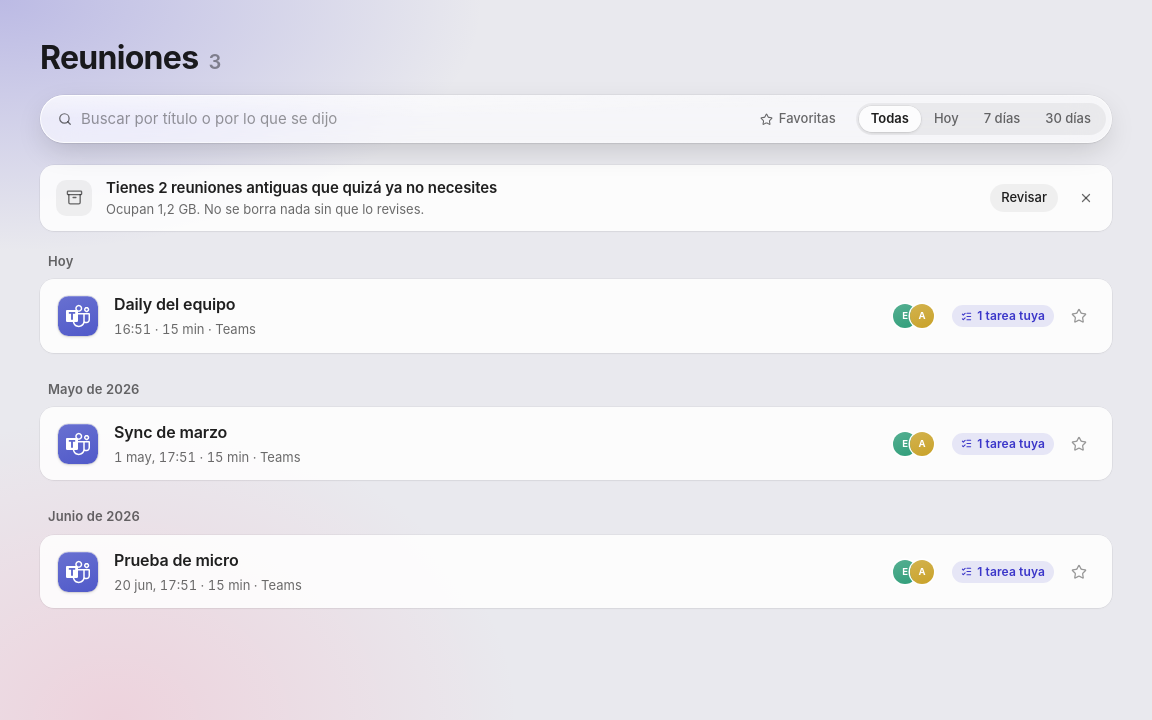
it: sugerencia de limpieza de reuniones antiguas › marcar una candidata como favorita la saca de la sugerencia
Click the 2nd button named "Marcar como favorita".
click(1079, 444)  # box x1=1064 y1=429 x2=1094 y2=459
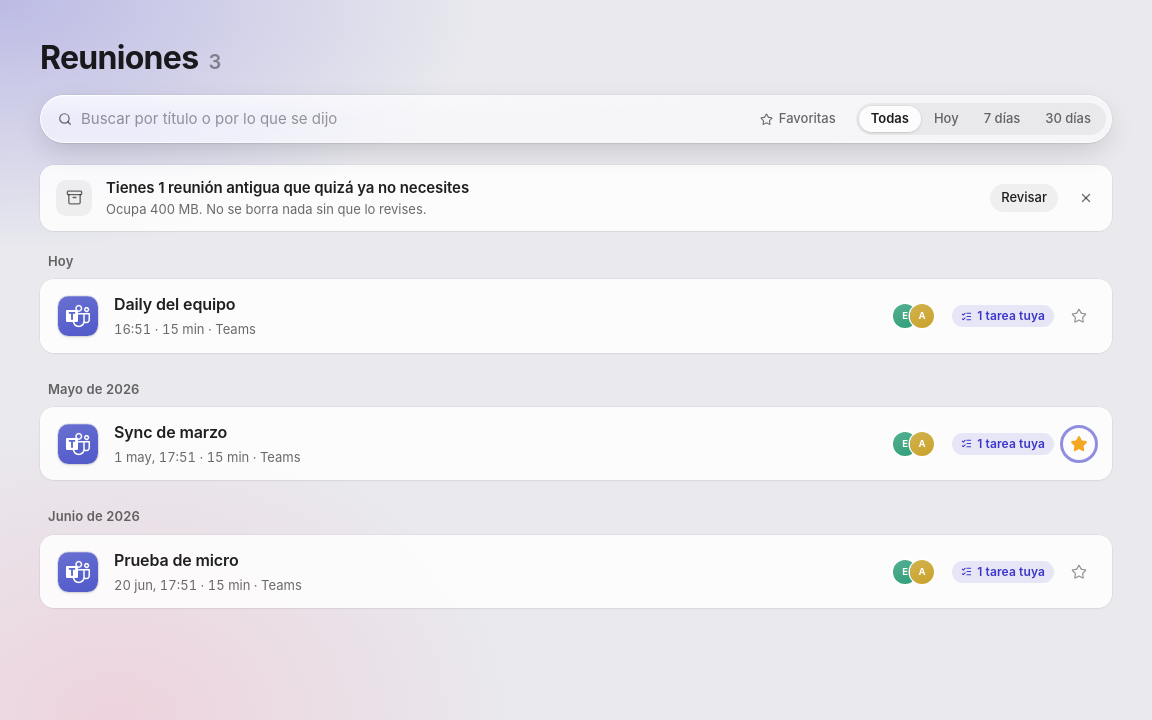
Now the text "Tienes 1 reunión antigua que quizá ya no necesites" is shown, box x1=106 y1=178 x2=469 y2=197
